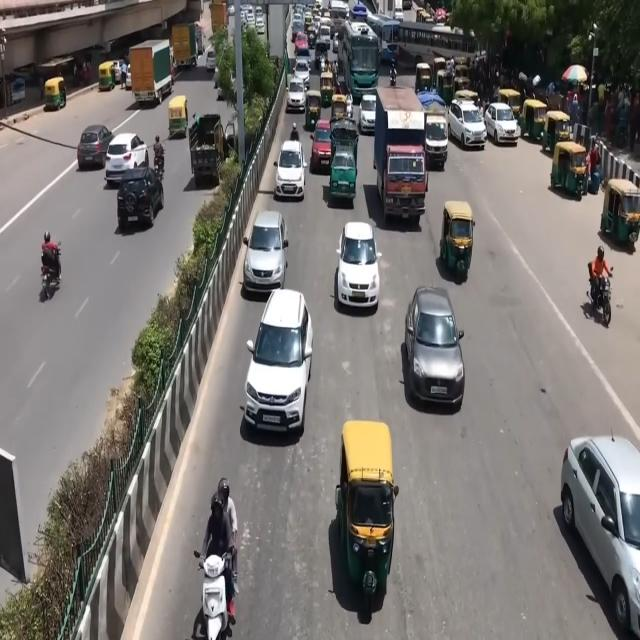auto: (336, 422, 398, 602), (439, 200, 475, 280), (599, 178, 640, 246), (551, 138, 588, 198), (541, 108, 572, 154), (520, 98, 549, 146), (168, 95, 188, 138), (497, 87, 522, 120), (44, 76, 66, 110), (304, 95, 322, 133), (320, 65, 335, 109), (454, 89, 480, 112), (98, 62, 117, 92), (415, 62, 432, 95), (331, 92, 348, 124), (454, 63, 471, 92), (436, 68, 450, 101)
bike-auto: (194, 545, 234, 640), (590, 246, 614, 306), (41, 231, 60, 283), (153, 136, 165, 178), (120, 64, 127, 90), (290, 122, 299, 142)
